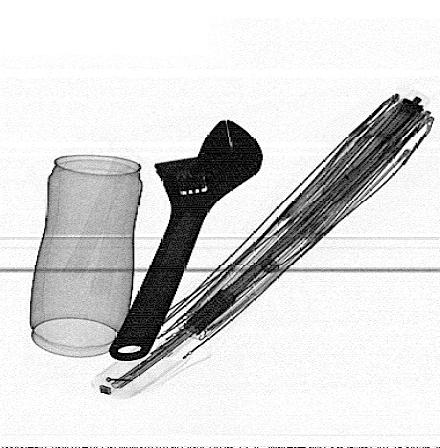Wrench: (107, 118, 263, 362)
